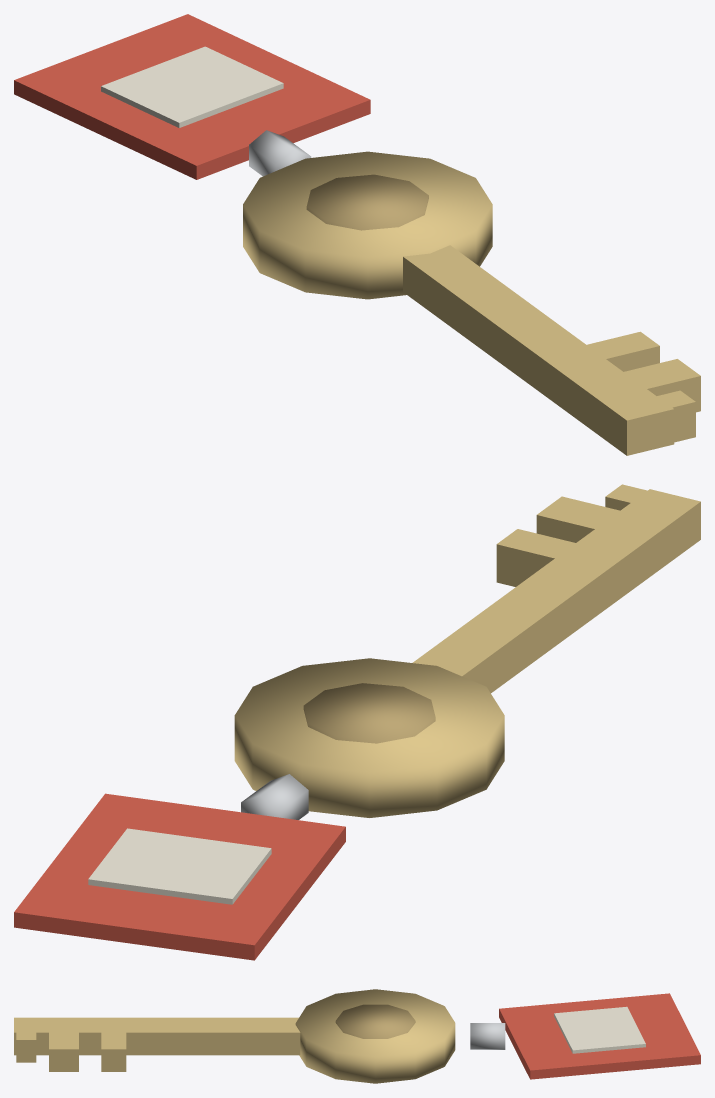
Rendered from item_key.fbx.
3 renders of one model, top to bottom at view 1: azimuth 30°, elevation 25°; view 2: azimuth 150°, elevation 25°; view 3: azimuth 270°, elevation 25°, orthographic. The views are drawn at different scales.
Visible parts, largest first — view 1: item_key; view 2: item_key; view 3: item_key.
Part boxes in pixels (box(x1,y1,x2,y2)): item_key: box(14, 14, 700, 455); item_key: box(14, 484, 700, 960); item_key: box(14, 989, 700, 1083).
Bounding box in the file's own units: 0.0732 × 0.014 × 0.2755.
